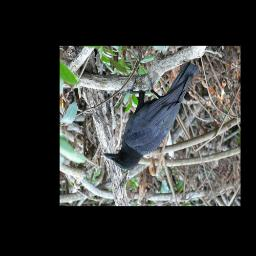Crow: (103, 59, 200, 170)
